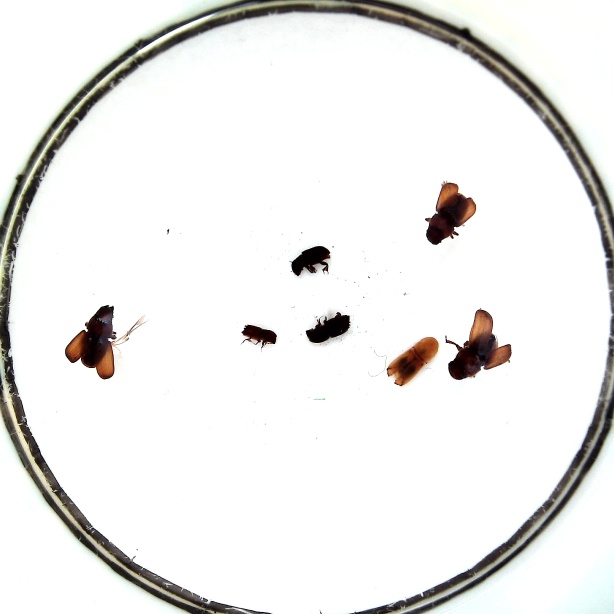acuminatus: (240, 323, 277, 347)
armandi: (291, 245, 332, 278)
boerner: (386, 335, 441, 388)
leconte: (445, 308, 511, 380), (63, 303, 120, 379), (423, 180, 478, 247)
linnaeus: (305, 312, 353, 344)
